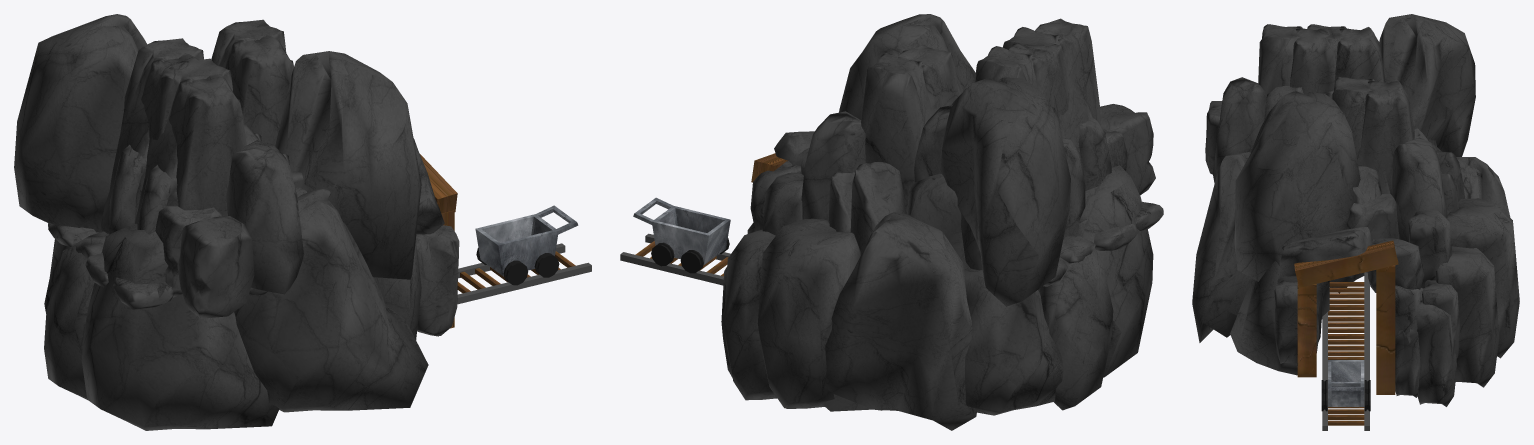
The model's file is Coal Mine.fbx.
3 views of the same model, side by side, from view 1: azimuth 30°, elevation 25°; view 2: azimuth 150°, elevation 25°; view 3: azimuth 270°, elevation 25° (orthographic). The views are drawn at different scales.
Visible parts, largest first — view 1: munt.001, Cube.008, Cube.006, Cube.004, Cylinder.001, Cube.007; view 2: munt.001, Cube.008, Cube.006, Cylinder.001; view 3: munt.001, Cube.004, Cube.007, Cube.008, Cube.006, Cylinder.001.
Boxes of the visible parts, left/top/right/bottom form: munt.001: left=14, top=14, right=459, bottom=430; Cube.008: left=475, top=205, right=578, bottom=276; Cube.006: left=457, top=243, right=591, bottom=304; Cube.004: left=420, top=154, right=457, bottom=328; Cylinder.001: left=476, top=248, right=559, bottom=285; Cube.007: left=457, top=251, right=575, bottom=293; munt.001: left=721, top=14, right=1163, bottom=430; Cube.008: left=633, top=197, right=730, bottom=264; Cube.006: left=620, top=233, right=730, bottom=285; Cylinder.001: left=651, top=238, right=729, bottom=273; munt.001: left=1192, top=14, right=1519, bottom=406; Cube.004: left=1294, top=240, right=1398, bottom=394; Cube.007: left=1328, top=282, right=1364, bottom=425; Cube.008: left=1328, top=360, right=1364, bottom=406; Cube.006: left=1322, top=272, right=1369, bottom=430; Cylinder.001: left=1321, top=380, right=1370, bottom=411.
Size of the model in its own units: 3362 by 2308 by 2350.
